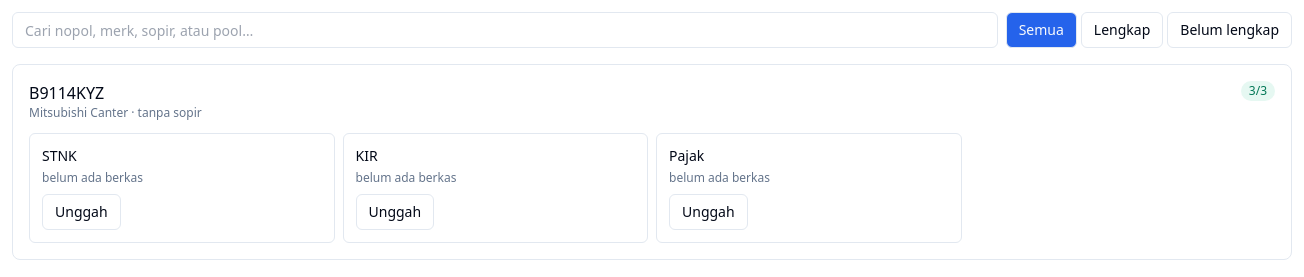
BerkasTab › says so when no vehicle matches
Step 1. Click the button "Belum lengkap" → (1230, 30), box [1167,12,1292,48]
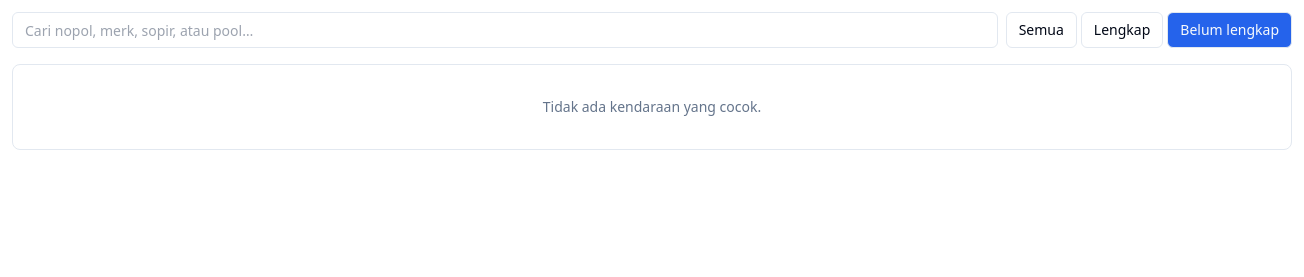
Result: the text "Tidak ada kendaraan yang cocok." is shown at [12,64,1292,150]
